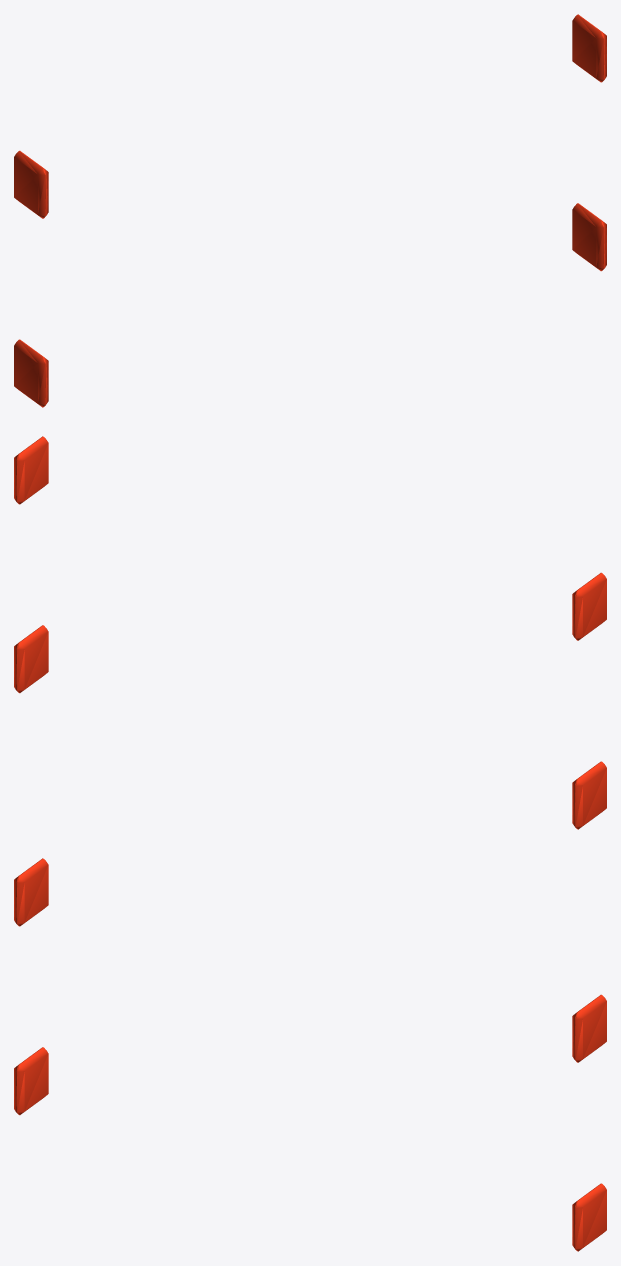
The model's file is ElectricGateEmitters.obj.
3 views of the same model, one above another, from view 1: azimuth 30°, elevation 25°; view 2: azimuth 150°, elevation 25°; view 3: azimuth 330°, elevation 25° (orthographic).
Parts seen in each view (by area): view 1: LiveEmitter, LiveEmitter.003, LiveEmitter.001, LiveEmitter.002; view 2: LiveEmitter, LiveEmitter.003, LiveEmitter.001, LiveEmitter.002; view 3: LiveEmitter.001, LiveEmitter.002, LiveEmitter, LiveEmitter.003.
Boxes of the visible parts, x1,y1,x2,y2 form: LiveEmitter: (14, 339, 48, 407); LiveEmitter.003: (572, 14, 606, 82); LiveEmitter.001: (14, 150, 48, 218); LiveEmitter.002: (572, 203, 606, 271); LiveEmitter: (572, 761, 606, 829); LiveEmitter.003: (14, 436, 48, 504); LiveEmitter.001: (572, 572, 606, 640); LiveEmitter.002: (14, 625, 48, 693); LiveEmitter.001: (14, 858, 48, 926); LiveEmitter.002: (572, 1183, 606, 1251); LiveEmitter: (14, 1047, 48, 1115); LiveEmitter.003: (572, 994, 606, 1062).
Bounding box in the file's own units: 4.26 × 1.71 × 0.38.
Materials: 1 (1 with a texture image).
